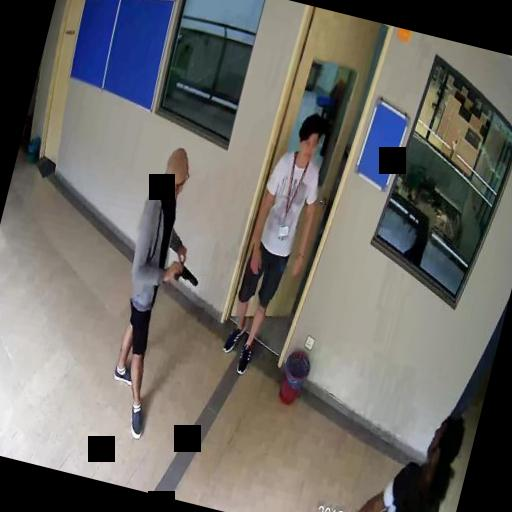Handgun: (170, 256, 202, 288)
